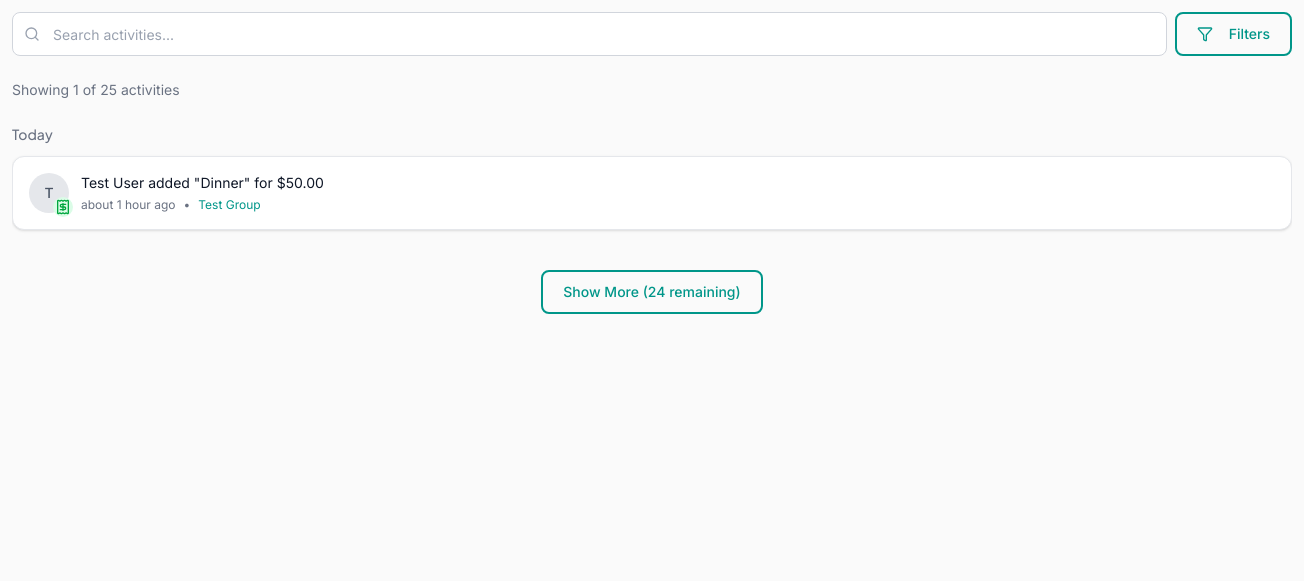
Test: ActivityPageClient › shows empty state when no activities match filters
// Open filters and select category
Click the button "Filters": [1233, 34] box x1=1175 y1=12 x2=1292 y2=56
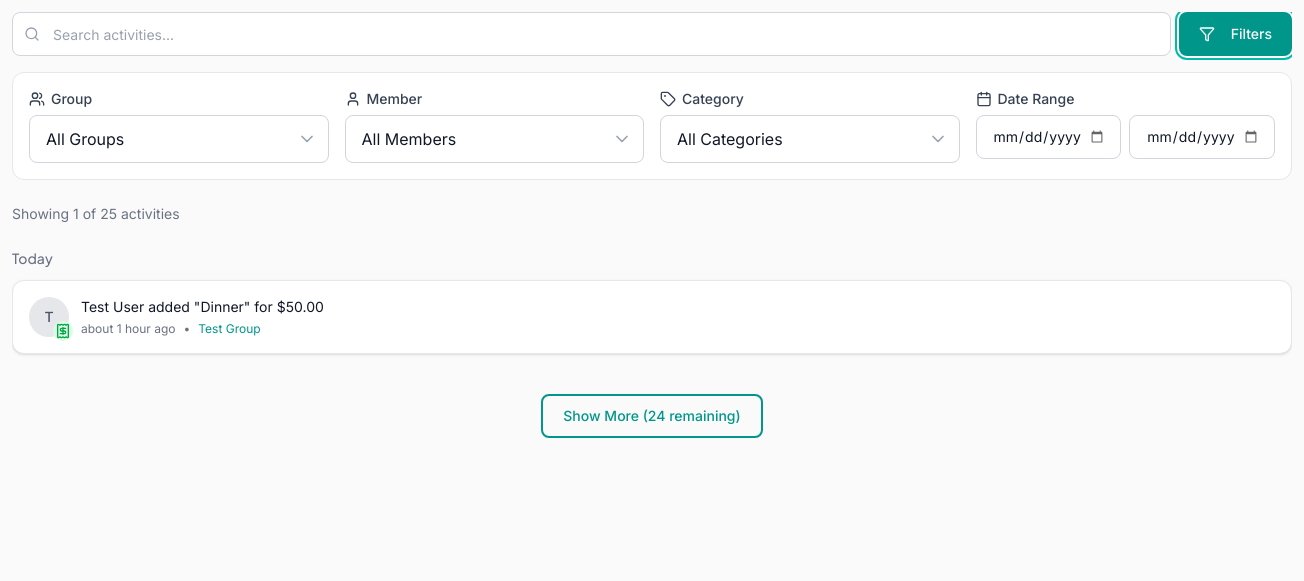
Select "Settlements" in the dropdown below "Category": [810, 139] box x1=660 y1=115 x2=960 y2=163
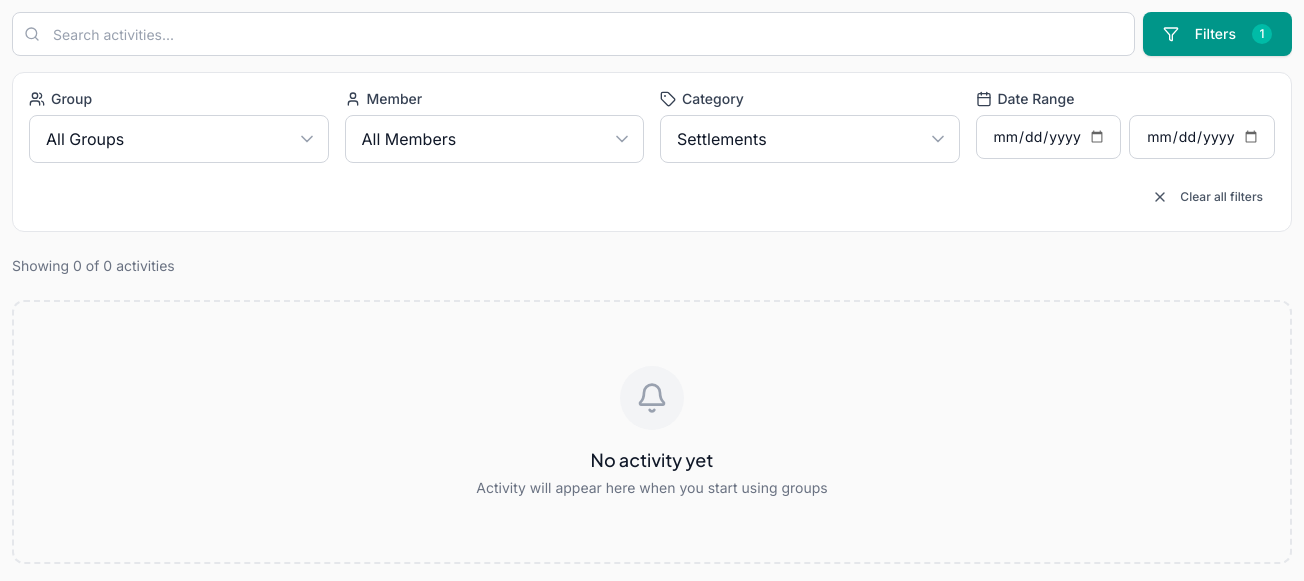
Expected: the heading "No activity yet" is shown, x1=591 y1=446 x2=713 y2=474
